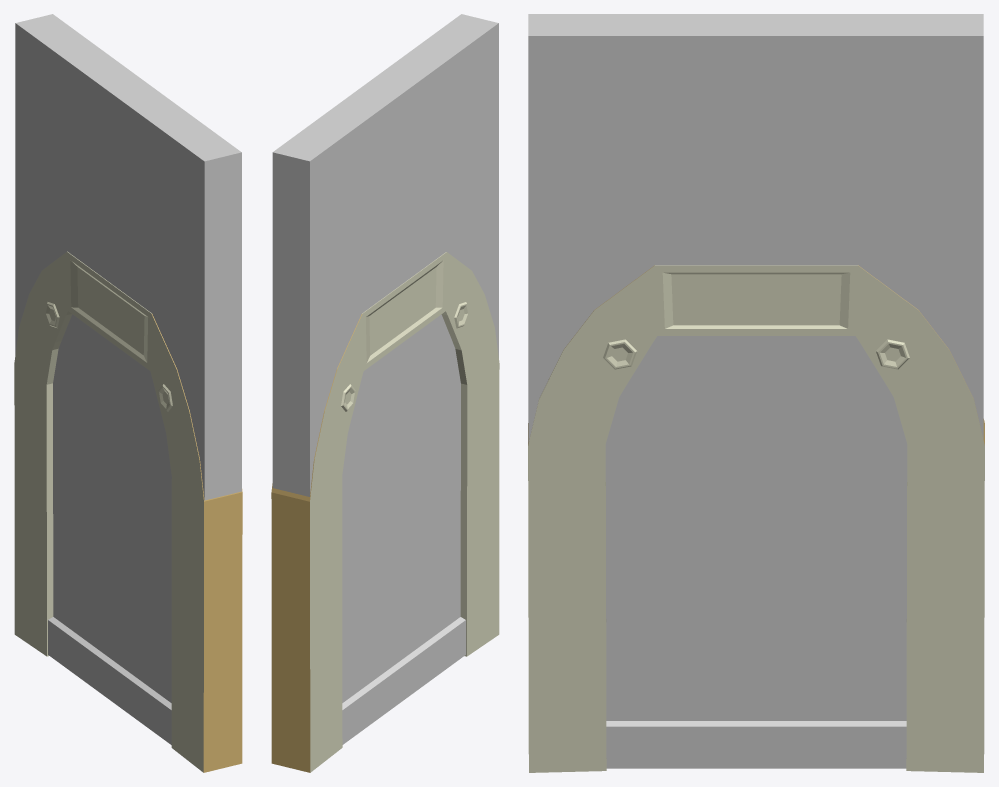
The model's file is PorteCoupeFeu.fbx.
The picture shows the model from 3 angles, left to right: view 1: azimuth 30°, elevation 25°; view 2: azimuth 150°, elevation 25°; view 3: azimuth 270°, elevation 25°; orthographic projection. The views are drawn at different scales.
Visible parts, largest first — view 1: mur, Cadre De porte, Porte Droite, Lumiere; view 2: mur, Cadre De porte, Porte Droite, Lumiere; view 3: mur, Porte Droite, Cadre De porte, Lumiere.
Boxes of the visible parts, x1,y1,x2,y2 form: mur: (15,14,241,500); Cadre De porte: (14,251,242,772); Porte Droite: (48,314,171,744); Lumiere: (45,302,172,411); mur: (272,14,498,496); Cadre De porte: (271,252,499,772); Porte Droite: (342,314,465,744); Lumiere: (341,302,468,411); mur: (528,14,983,443); Porte Droite: (605,336,907,768); Cadre De porte: (528,265,984,772); Lumiere: (603,339,909,369).
Bounding box in the file's own units: 37.07 × 525 × 295.
